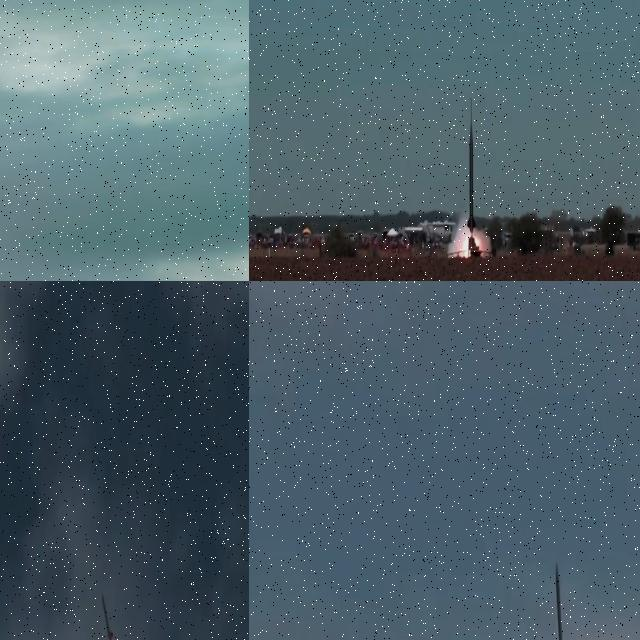Rocket: (468, 122, 477, 235), (554, 562, 567, 640), (101, 594, 113, 640)
